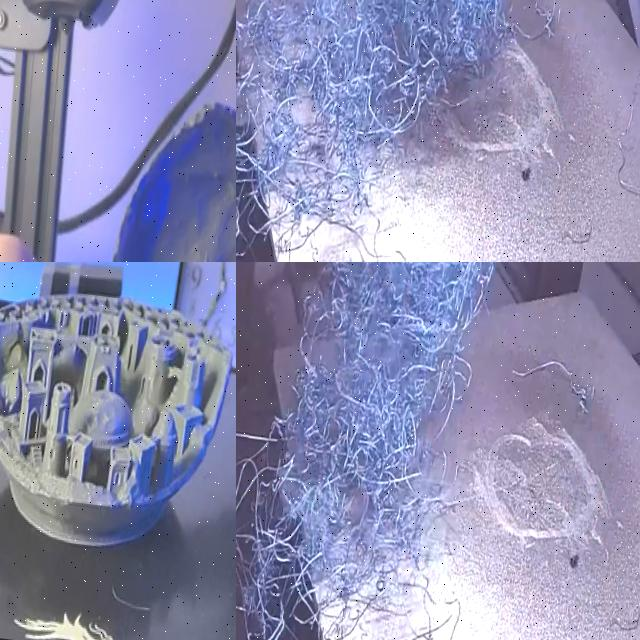spaghetti: (236, 262, 548, 640), (236, 0, 589, 262), (508, 345, 604, 424), (603, 60, 640, 207), (561, 216, 599, 262), (607, 605, 640, 640)
